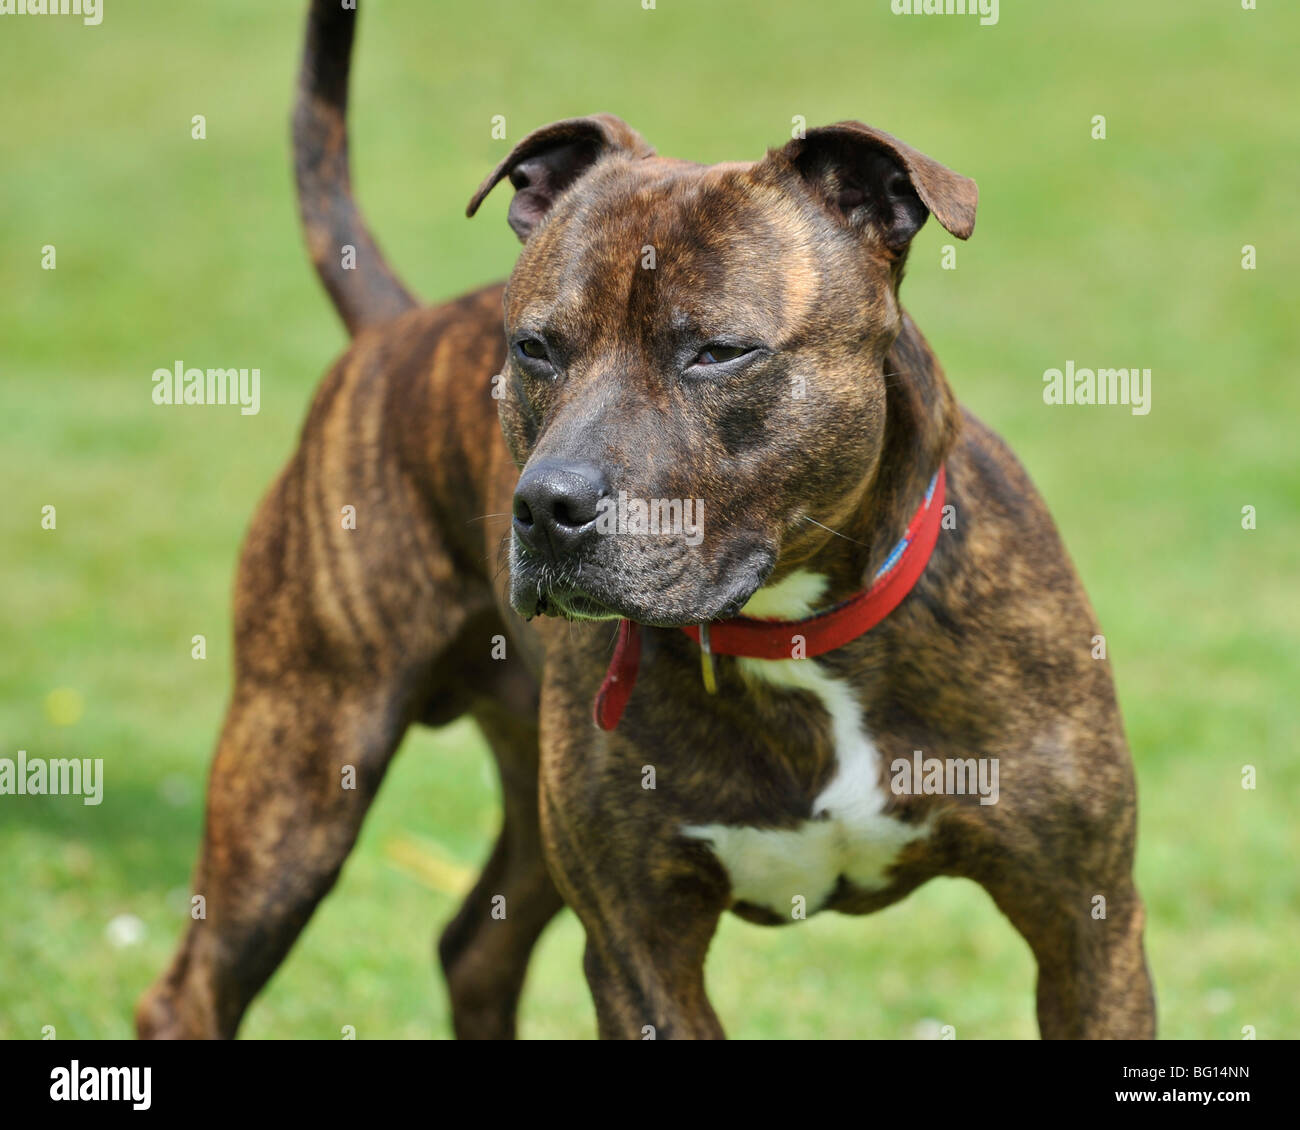am_pit_bull_terrier: (126, 0, 1160, 1042)
